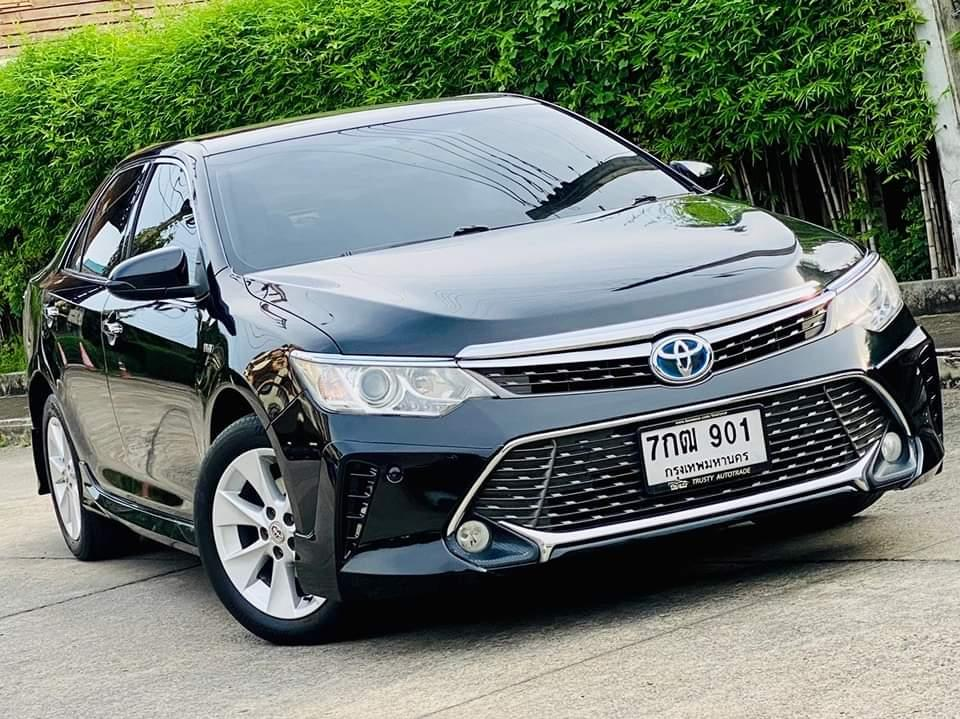license-plate: (624, 401, 777, 491)
